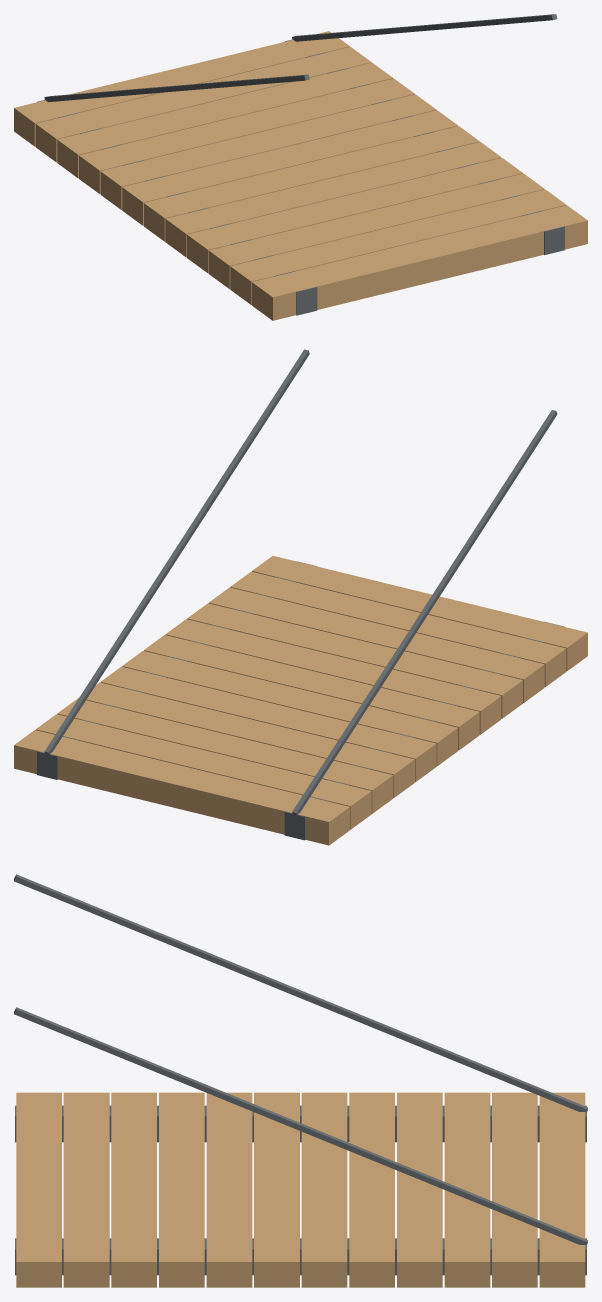
Rendered from drawbridge-deck.glb.
3 renders of one model, top to bottom at view 1: azimuth 30°, elevation 25°; view 2: azimuth 150°, elevation 25°; view 3: azimuth 270°, elevation 25°, orthographic. The views are drawn at different scales.
Parts seen in each view (by area): view 1: drawbridge-deck; view 2: drawbridge-deck; view 3: drawbridge-deck.
Boxes of the visible parts, x1,y1,x2,y2 form: drawbridge-deck: (14, 14, 587, 320); drawbridge-deck: (14, 349, 587, 845); drawbridge-deck: (14, 874, 587, 1287).
Bounding box in the file's own units: 2.8 × 2.02 × 4.02.
